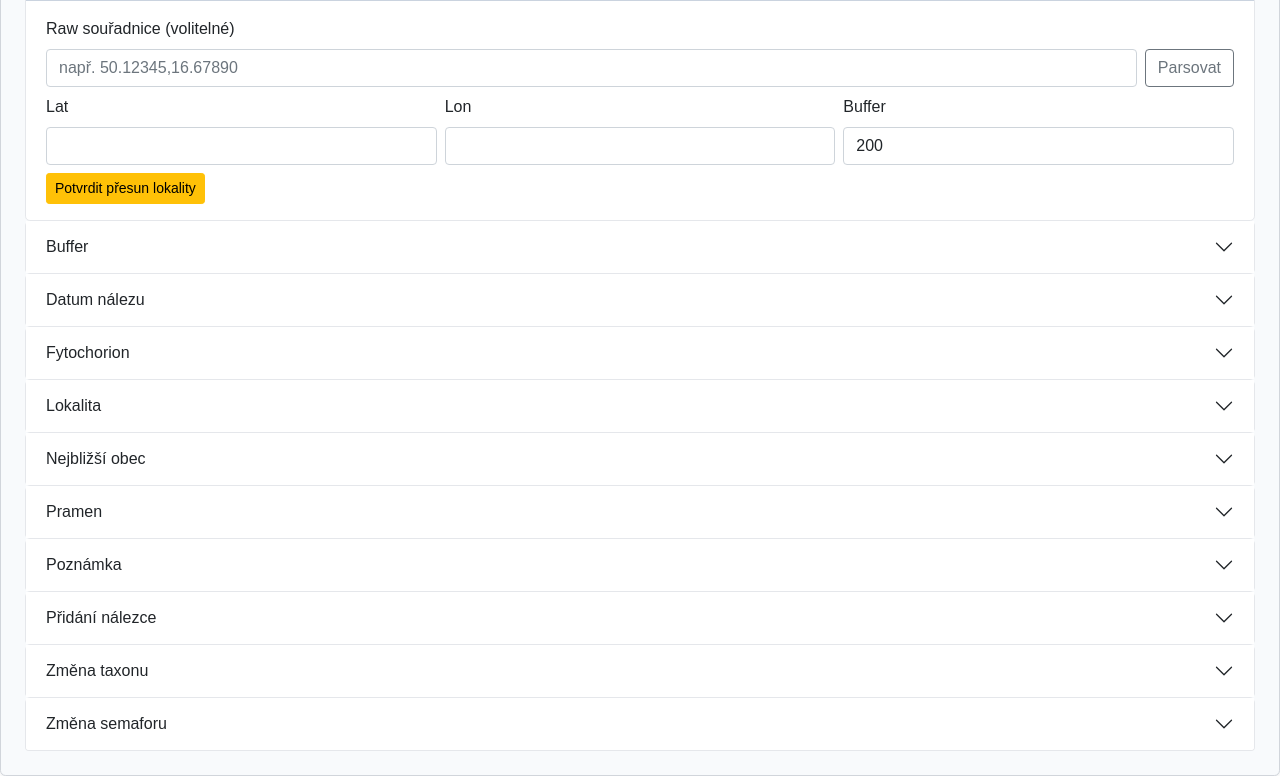
Scenario: BulkEdit – potvrzovací flow (F.3) › zrušení potvrzovacího dialogu nespustí dávku
(page scrolled)
Click the button "Změna semaforu" at (106, 724), box [26,698,1254,750]
(page scrolled)
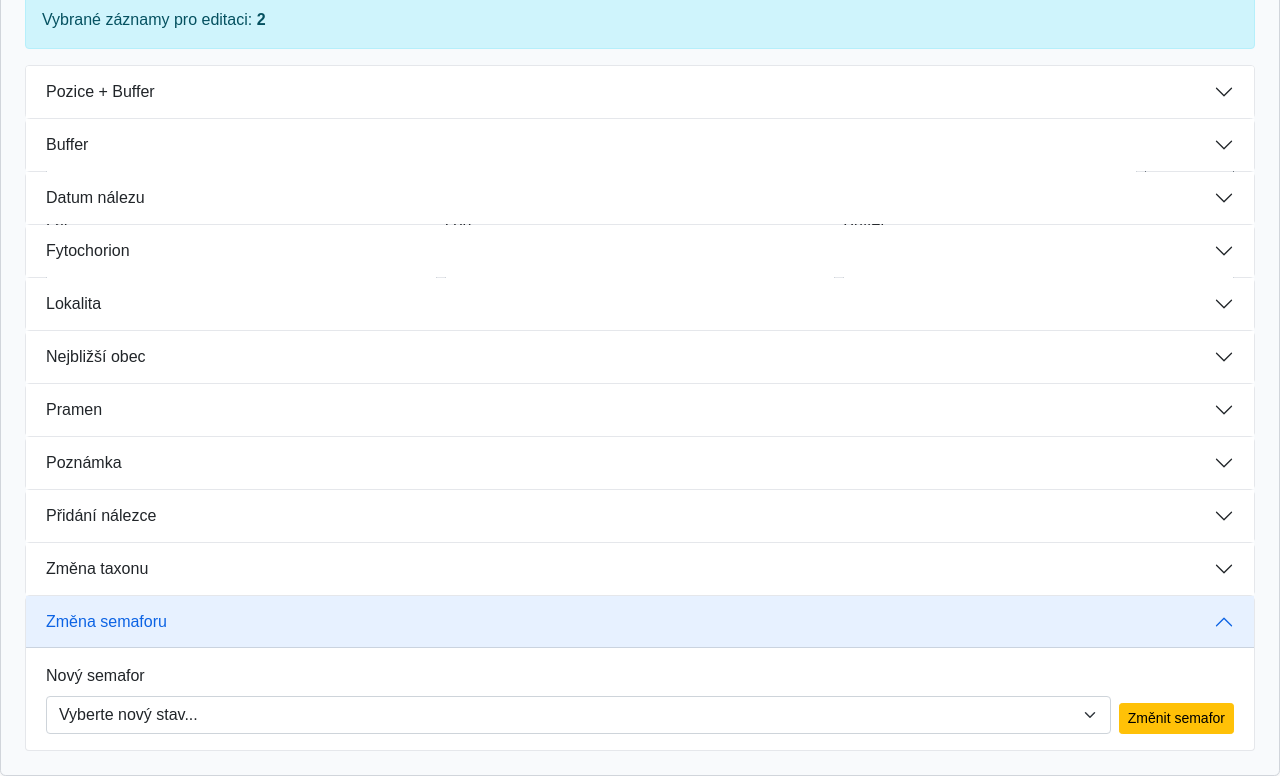
Select "zelená -> Přijatý záznam" in the dropdown showing "Vyberte nový stav..." at (578, 715), box [46,696,1111,734]
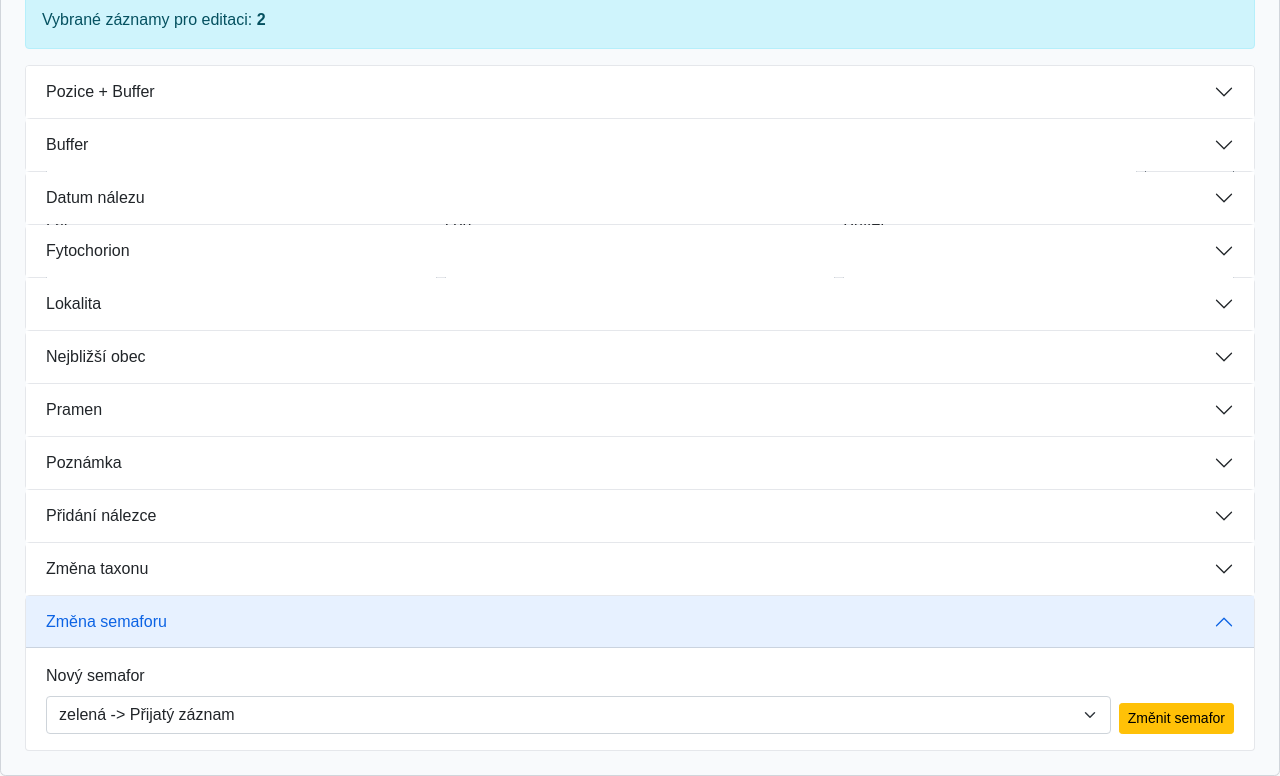
Click the button "Změnit semafor" at (1176, 718), box [1119,703,1234,734]
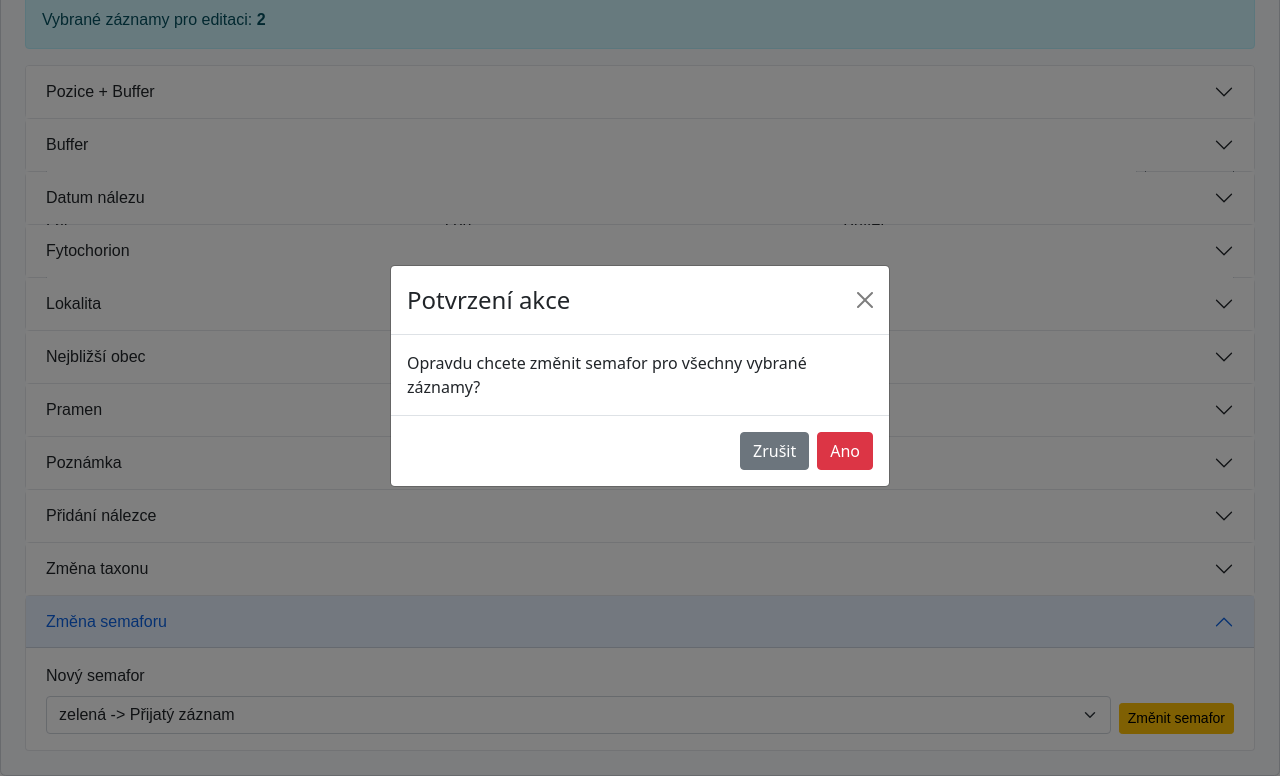
Expected: the text "Opravdu chcete změnit semafor pro všechny vybrané záznamy?" is shown, [407,352,807,398]
Click the button "Zrušit" at (775, 451), box [740,432,809,470]
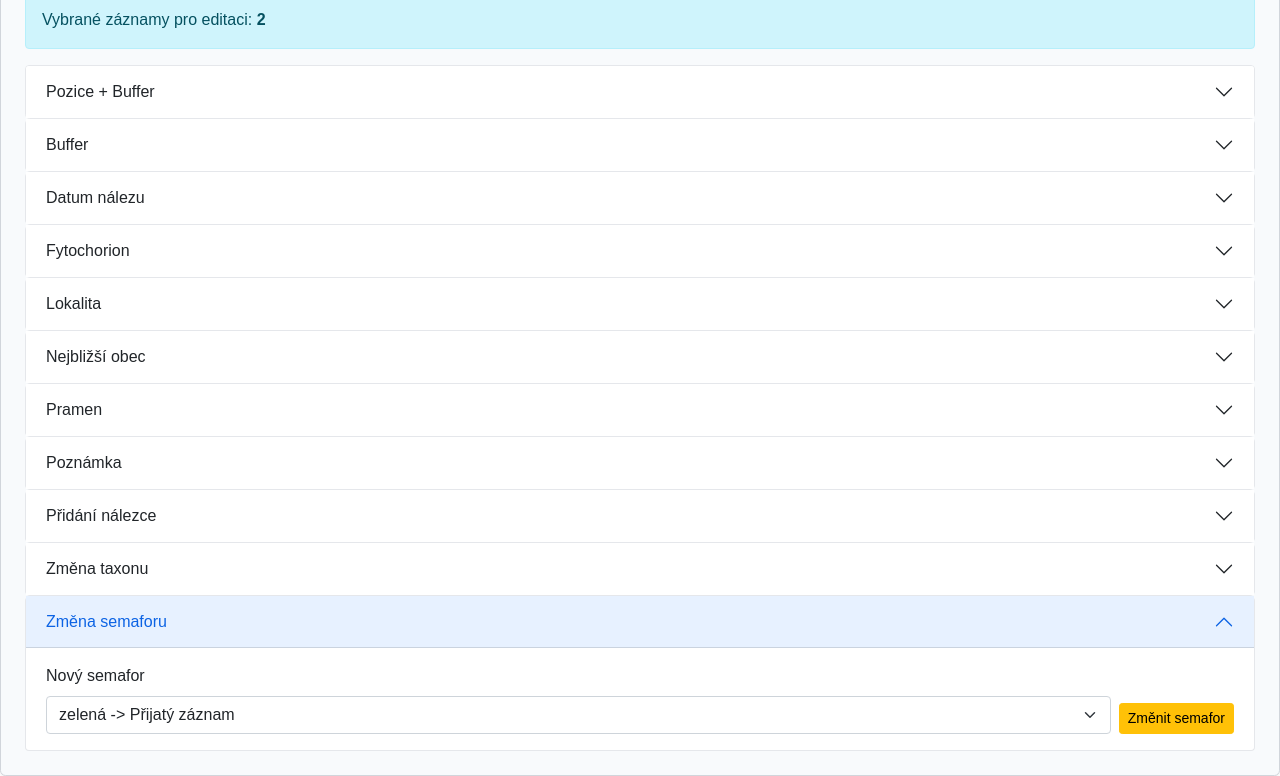
Expected: the text "Opravdu chcete změnit semafor pro všechny vybrané záznamy?" is gone
